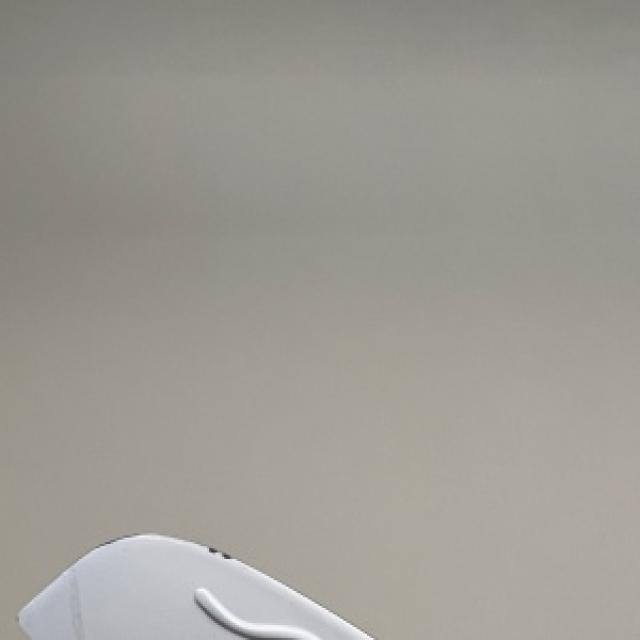healthy: (17, 535, 369, 638)
